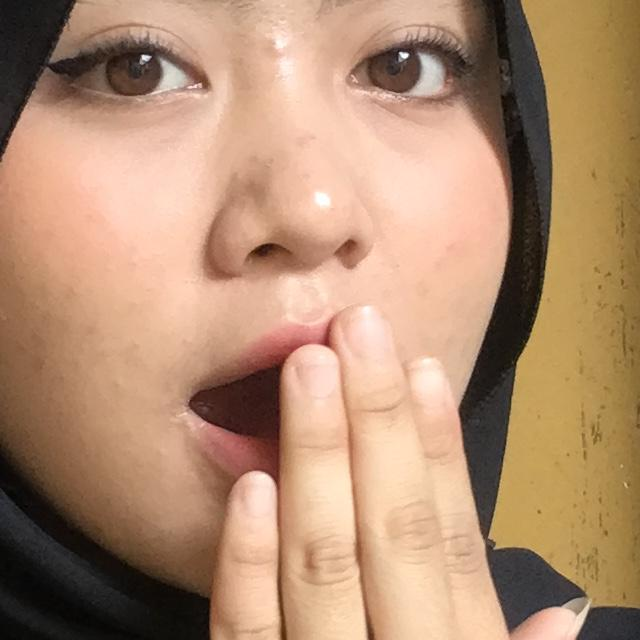ngantuk: (10, 226, 640, 640)
